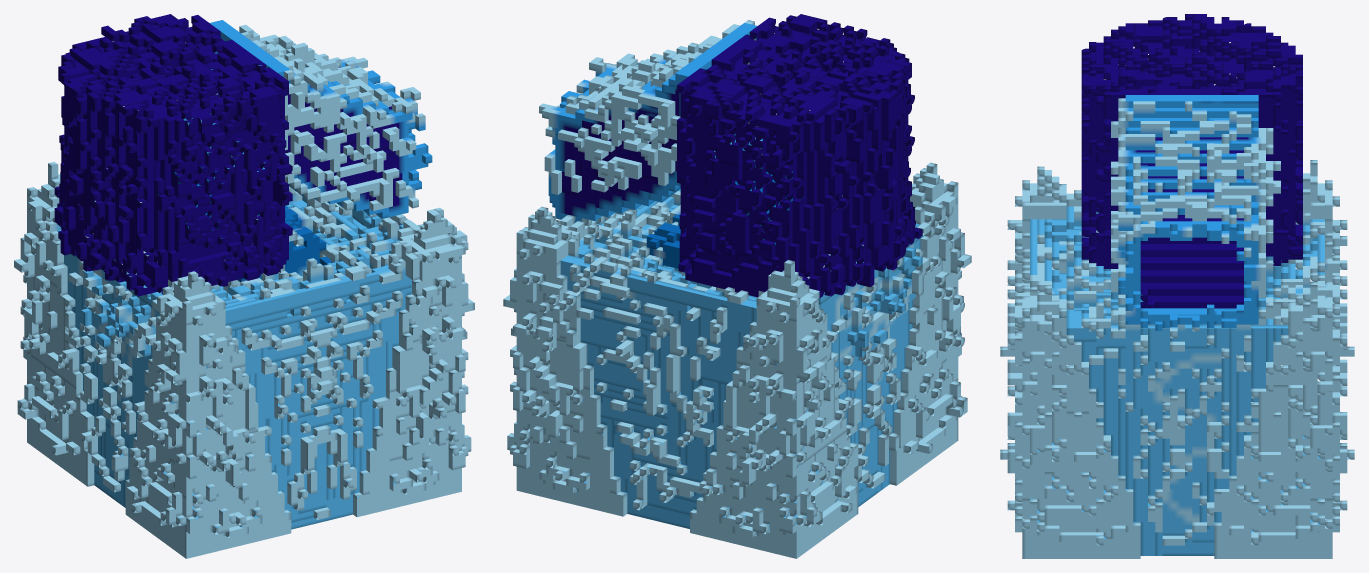
Rendered from Cañon_Hielo.dae.
3 renders of one model, left to right at view 1: azimuth 30°, elevation 25°; view 2: azimuth 150°, elevation 25°; view 3: azimuth 270°, elevation 25°, orthographic. The views are drawn at different scales.
Visible parts, largest first — view 1: Node-local, Node (1)-local; view 2: Node-local, Node (1)-local; view 3: Node-local, Node (1)-local.
Boxes of the visible parts, <box> form: Node-local: <box>14,161,474,558</box>; Node (1)-local: <box>54,14,432,296</box>; Node-local: <box>503,162,971,558</box>; Node (1)-local: <box>539,14,922,298</box>; Node-local: <box>1000,160,1354,558</box>; Node (1)-local: <box>1081,14,1302,330</box>.
Size of the model in its own units: 49 by 60 by 48.
2 materials, 2 textured.
